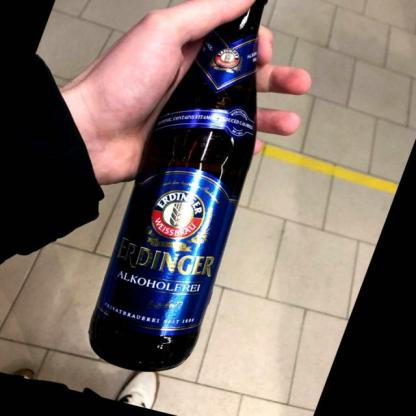Can: (87, 0, 270, 372)
